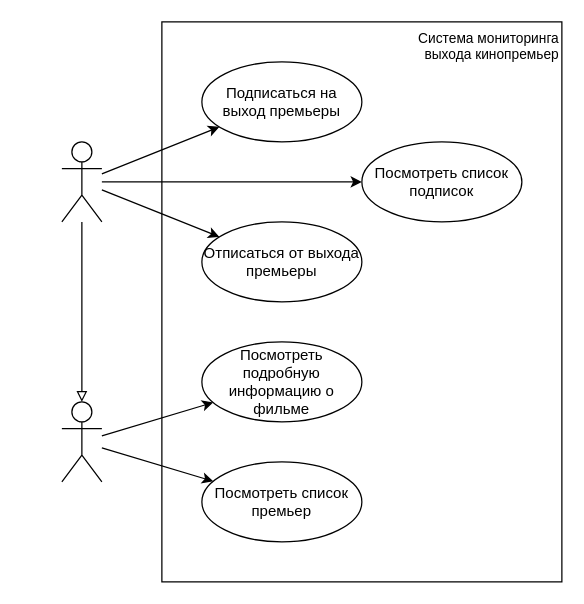
The diagram is 584 pixels wide and 604 high, and some of its shapes have lost their labels. Here are the shapes that lost their labels. From the top down, the centre of each, then its label:
At pixel 81 181: "Подтвержденный пользователь".
At pixel 81 441: "Пользователь".
